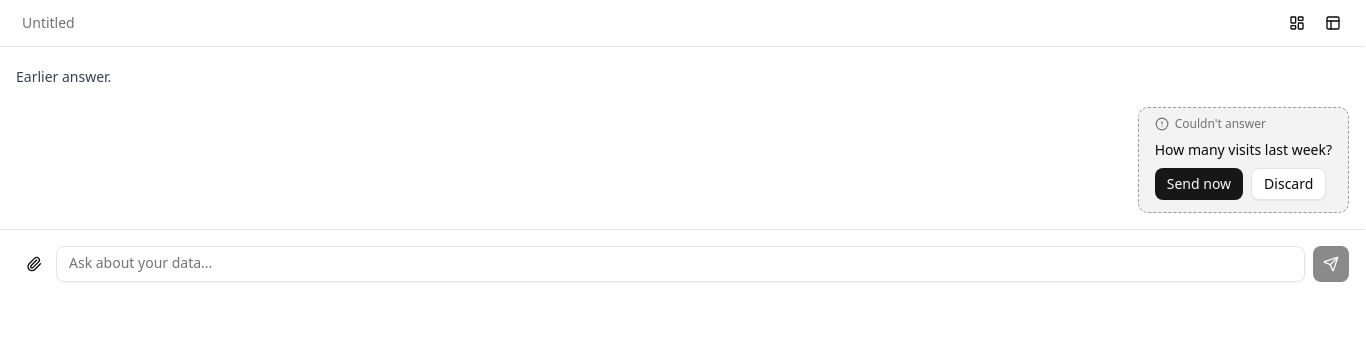
a message sent while the chat's data loads › keeps a stopped reply without reloading over it
This screenshot has width=1366, height=337.
expect the text "Earlier answer." is shown: met, box [16, 67, 111, 87]
Click the button with test id "pending-request-send-now" at (1199,184), box [1155, 168, 1243, 200]
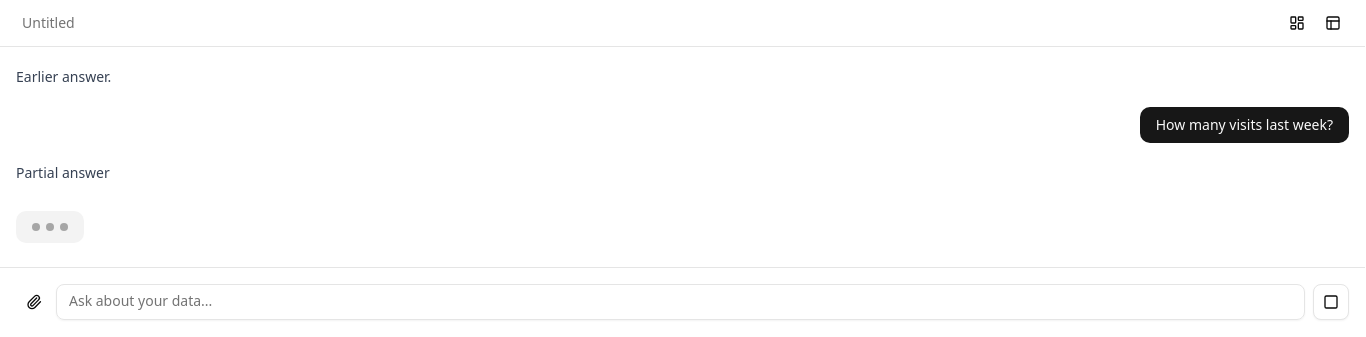
expect the text "Partial answer" is shown: met, box [16, 163, 110, 183]
Click the button named "Stop response" at (1331,302), box [1313, 284, 1349, 320]
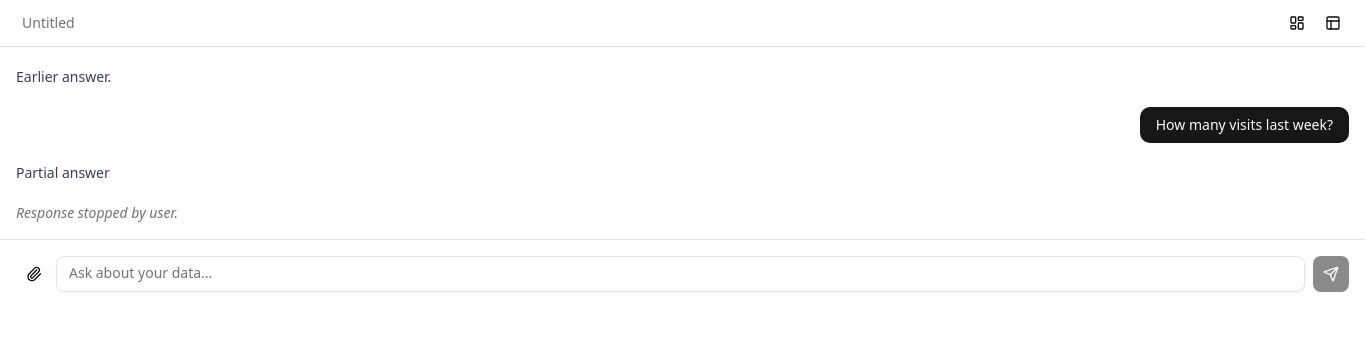
expect the text "Earlier answer." is shown: met, box [16, 67, 111, 87]
expect the text "Partial answer" is shown: met, box [16, 163, 110, 183]
expect the message "Response stopped by user." is shown: met, box [16, 203, 178, 222]
